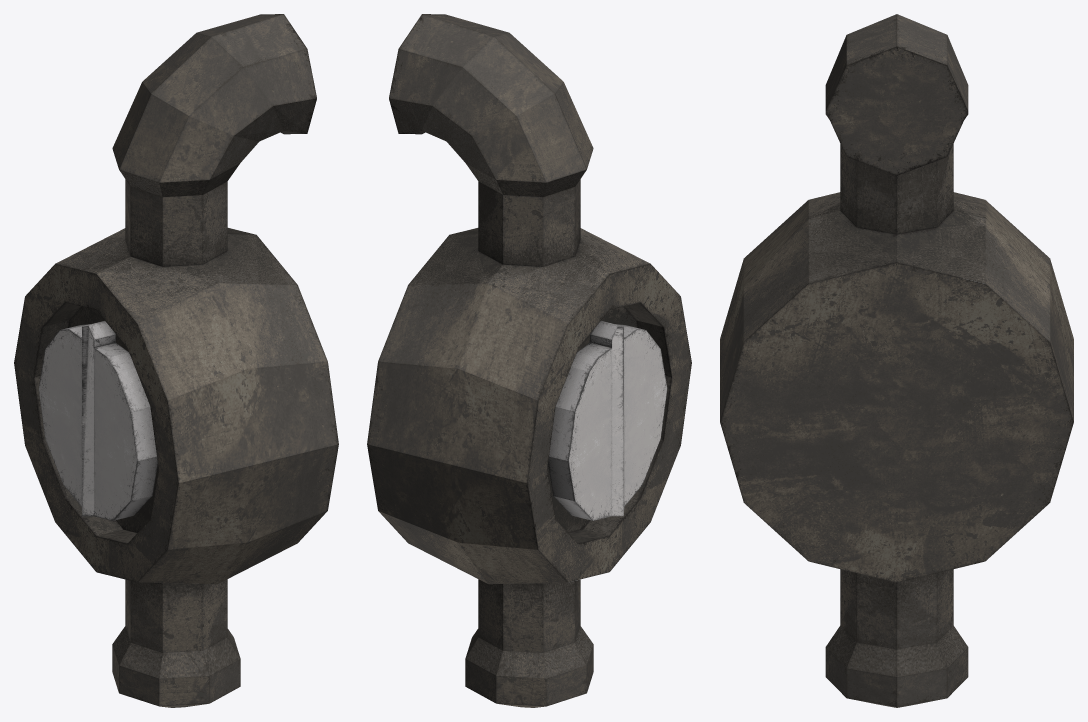
The model's file is LightSwitch.fbx.
3 renders of one model, left to right at view 1: azimuth 30°, elevation 25°; view 2: azimuth 150°, elevation 25°; view 3: azimuth 270°, elevation 25°, orthographic. The views are drawn at different scales.
Parts seen in each view (by area): view 1: Switch_base, Switch_part; view 2: Switch_base, Switch_part; view 3: Switch_base.
Boxes of the visible parts, x1,y1,x2,y2 form: Switch_base: (14, 14, 338, 707); Switch_part: (38, 321, 157, 520); Switch_base: (367, 14, 691, 707); Switch_part: (548, 321, 667, 520); Switch_base: (720, 14, 1073, 707).
Bounding box in the file's own units: 142 × 443 × 200.
2 materials, 2 textured.
